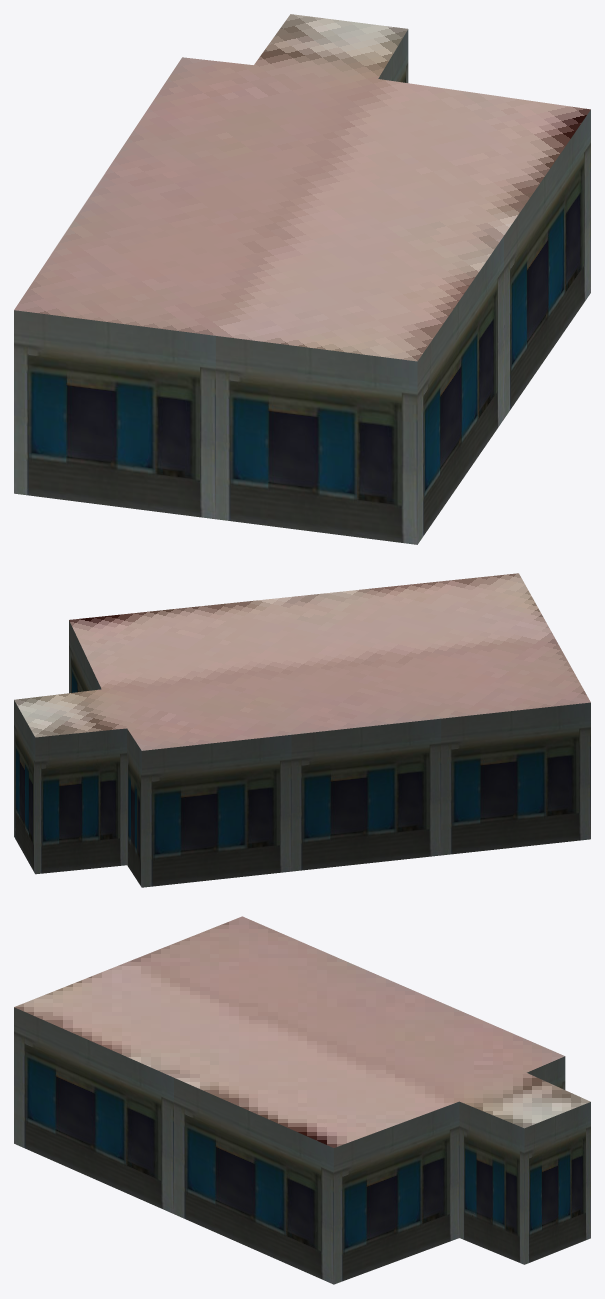
The model's file is T_1SXGV4P4K0.dae.
3 views of the same model, one above another, from view 1: azimuth 30°, elevation 25°; view 2: azimuth 150°, elevation 25°; view 3: azimuth 270°, elevation 25° (orthographic). The views are drawn at different scales.
Parts seen in each view (by area): view 1: SketchUp (×4); view 2: SketchUp (×6); view 3: SketchUp (×6).
Boxes of the visible parts, x1,y1,x2,y2 form: SketchUp (×4): (14, 14, 590, 544); SketchUp (×6): (14, 573, 590, 887); SketchUp (×6): (14, 916, 590, 1284).
Bounding box in the file's own units: 14.24 × 14.98 × 3.91.
2 materials, 2 textured.
